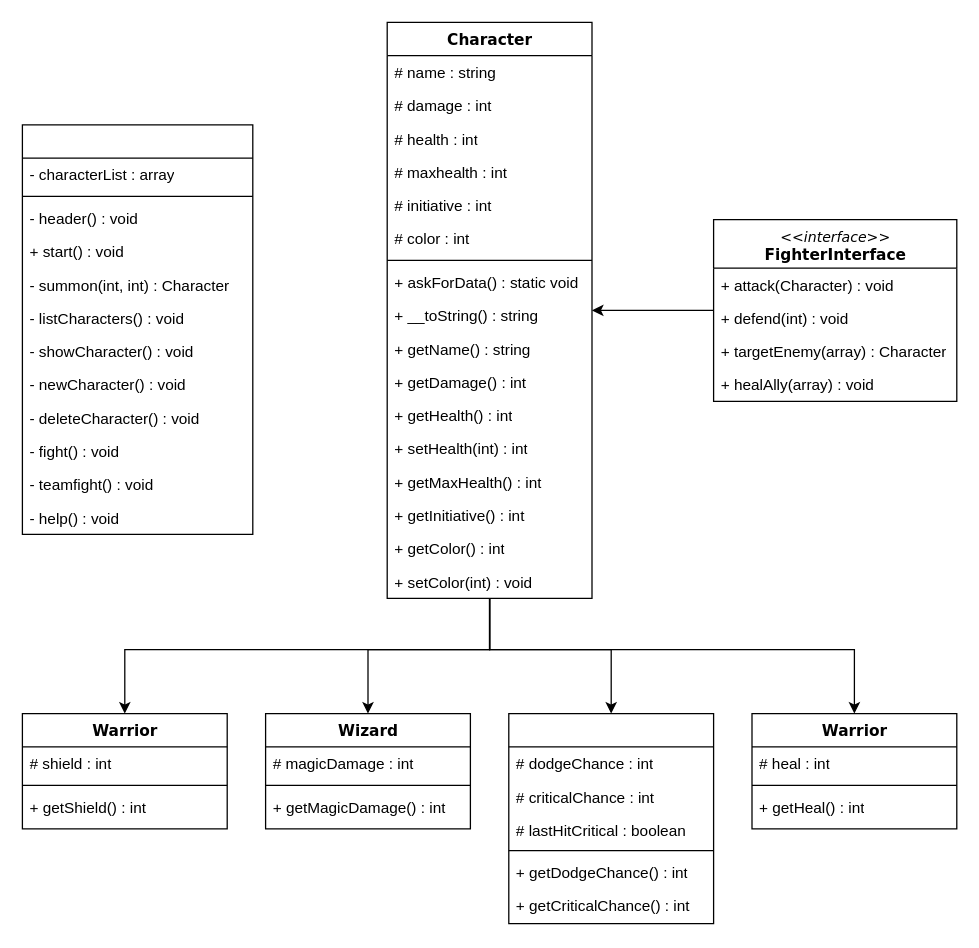
The diagram is 979 pixels wide and 948 high, and some of its shapes have lost their labels. The box of each missing label's shape, as (x1, y1, x2, y2) in pixels:
CharManager: (21, 124, 253, 534)
Thief: (508, 712, 714, 924)
